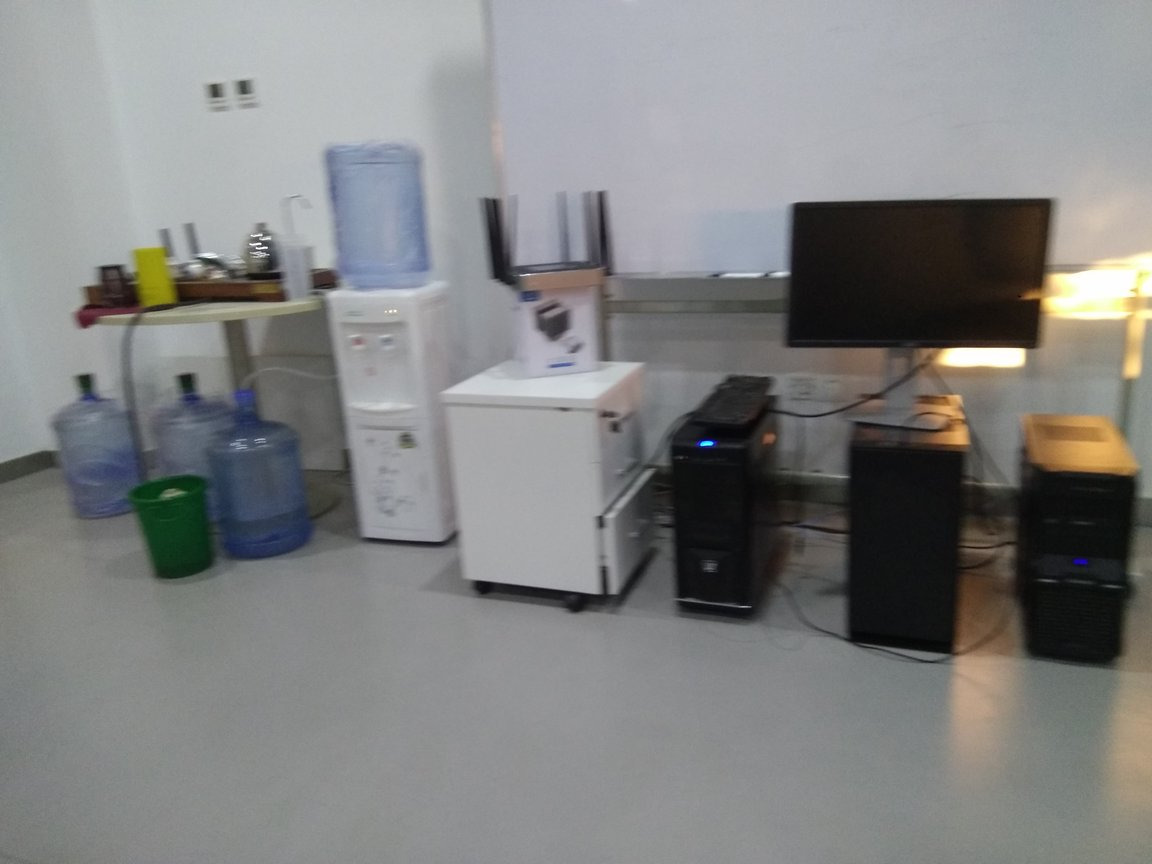computer: (846, 385, 979, 668), (1011, 405, 1141, 673), (664, 388, 799, 626)
drawer chest: (444, 360, 656, 609)
monitor: (787, 201, 1048, 431)
scuttlebutt: (320, 146, 441, 300), (212, 395, 308, 566), (151, 370, 245, 533), (51, 371, 146, 517)
water dispenser: (323, 281, 469, 556)
